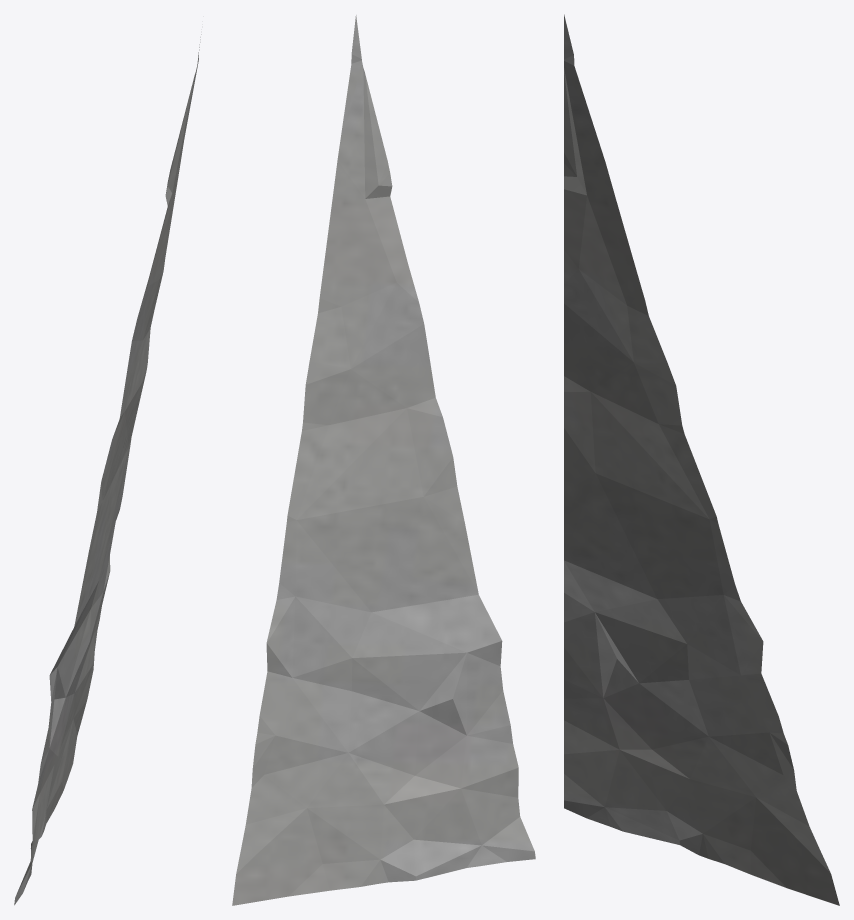
The picture shows the model from 3 angles, left to right: view 1: azimuth 30°, elevation 25°; view 2: azimuth 150°, elevation 25°; view 3: azimuth 270°, elevation 25°; orthographic projection. The views are drawn at different scales.
Bounding box in the file's own units: 0.1316 × 0.5604 × 0.1571.
Materials: 1 (1 with a texture image).
